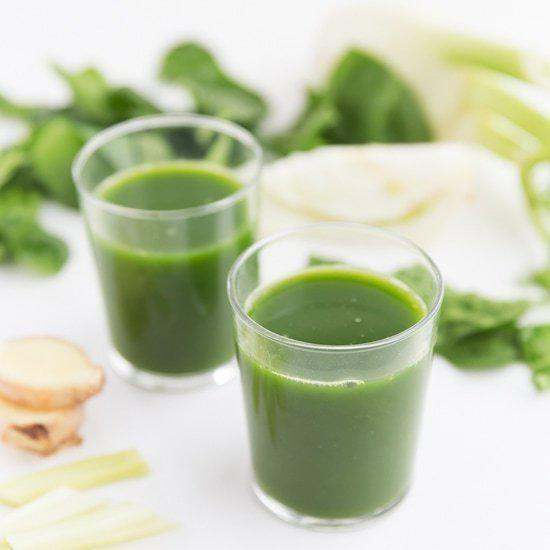glass-normal: (224, 217, 446, 533), (69, 110, 266, 399)
